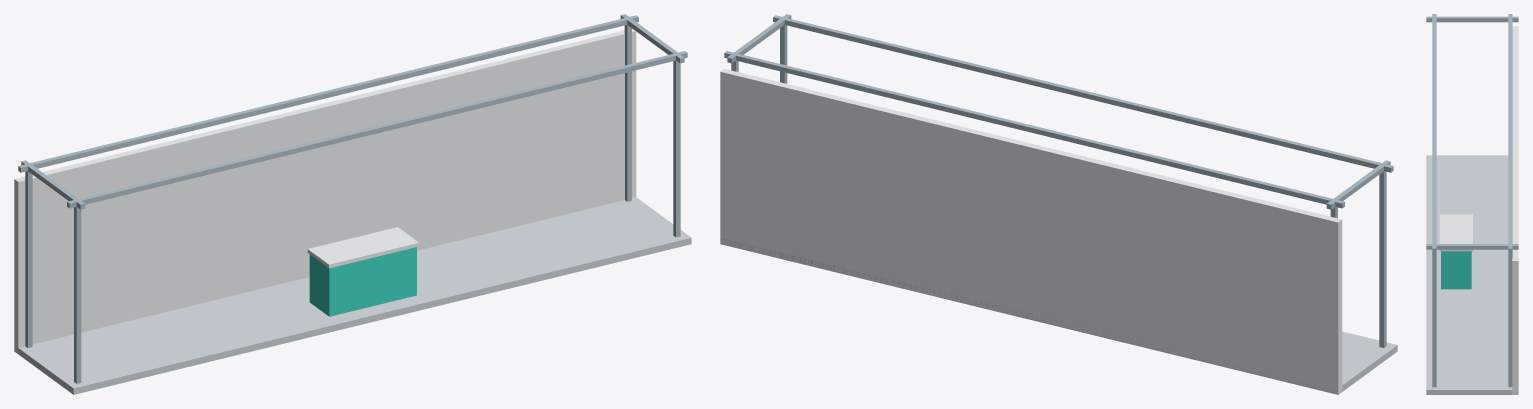
3 renders of one model, left to right at view 1: azimuth 30°, elevation 25°; view 2: azimuth 150°, elevation 25°; view 3: azimuth 270°, elevation 25°, orthographic. The views are drawn at different scales.
Visible parts, largest first — view 1: Exhibition Booth Concept; view 2: Exhibition Booth Concept; view 3: Exhibition Booth Concept.
Part boxes in pixels (x1=…): Exhibition Booth Concept: x1=14, y1=14, x2=691, y2=394; Exhibition Booth Concept: x1=720, y1=14, x2=1397, y2=394; Exhibition Booth Concept: x1=1426, y1=14, x2=1518, y2=394.
Size of the model in its own units: 12 by 3.49 by 2.
